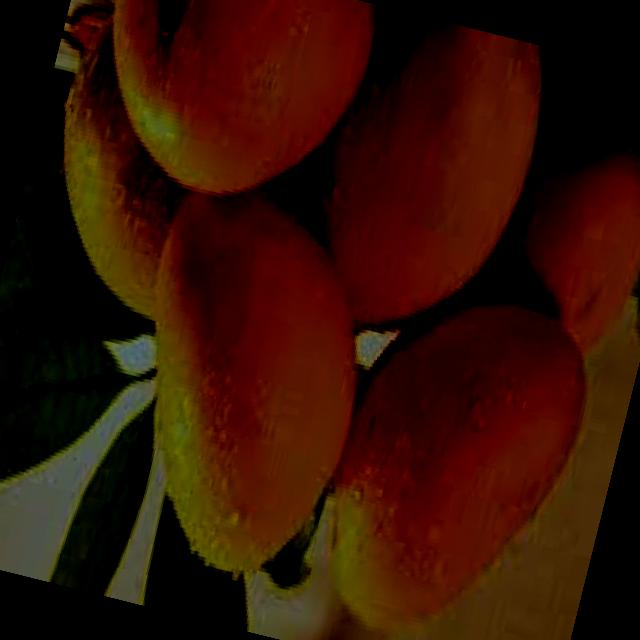Mango: (90, 174, 393, 592), (302, 280, 604, 640), (270, 0, 556, 353), (77, 0, 382, 224), (18, 11, 225, 322), (469, 99, 640, 365)
